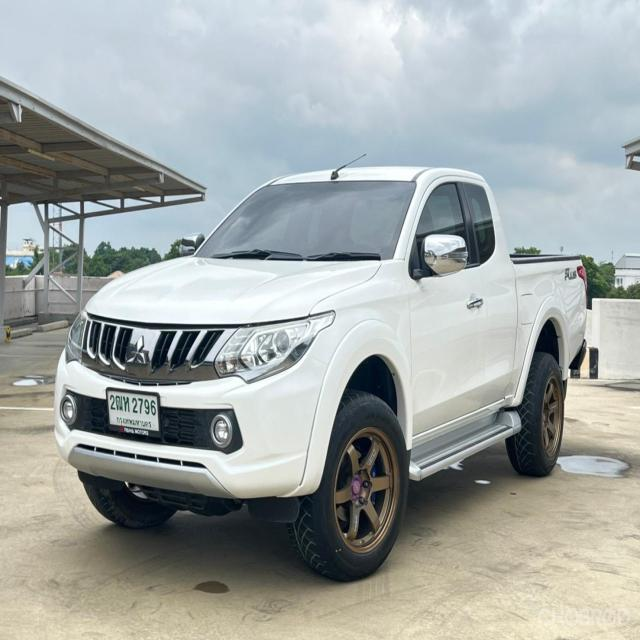license_plate: (104, 386, 163, 439)
